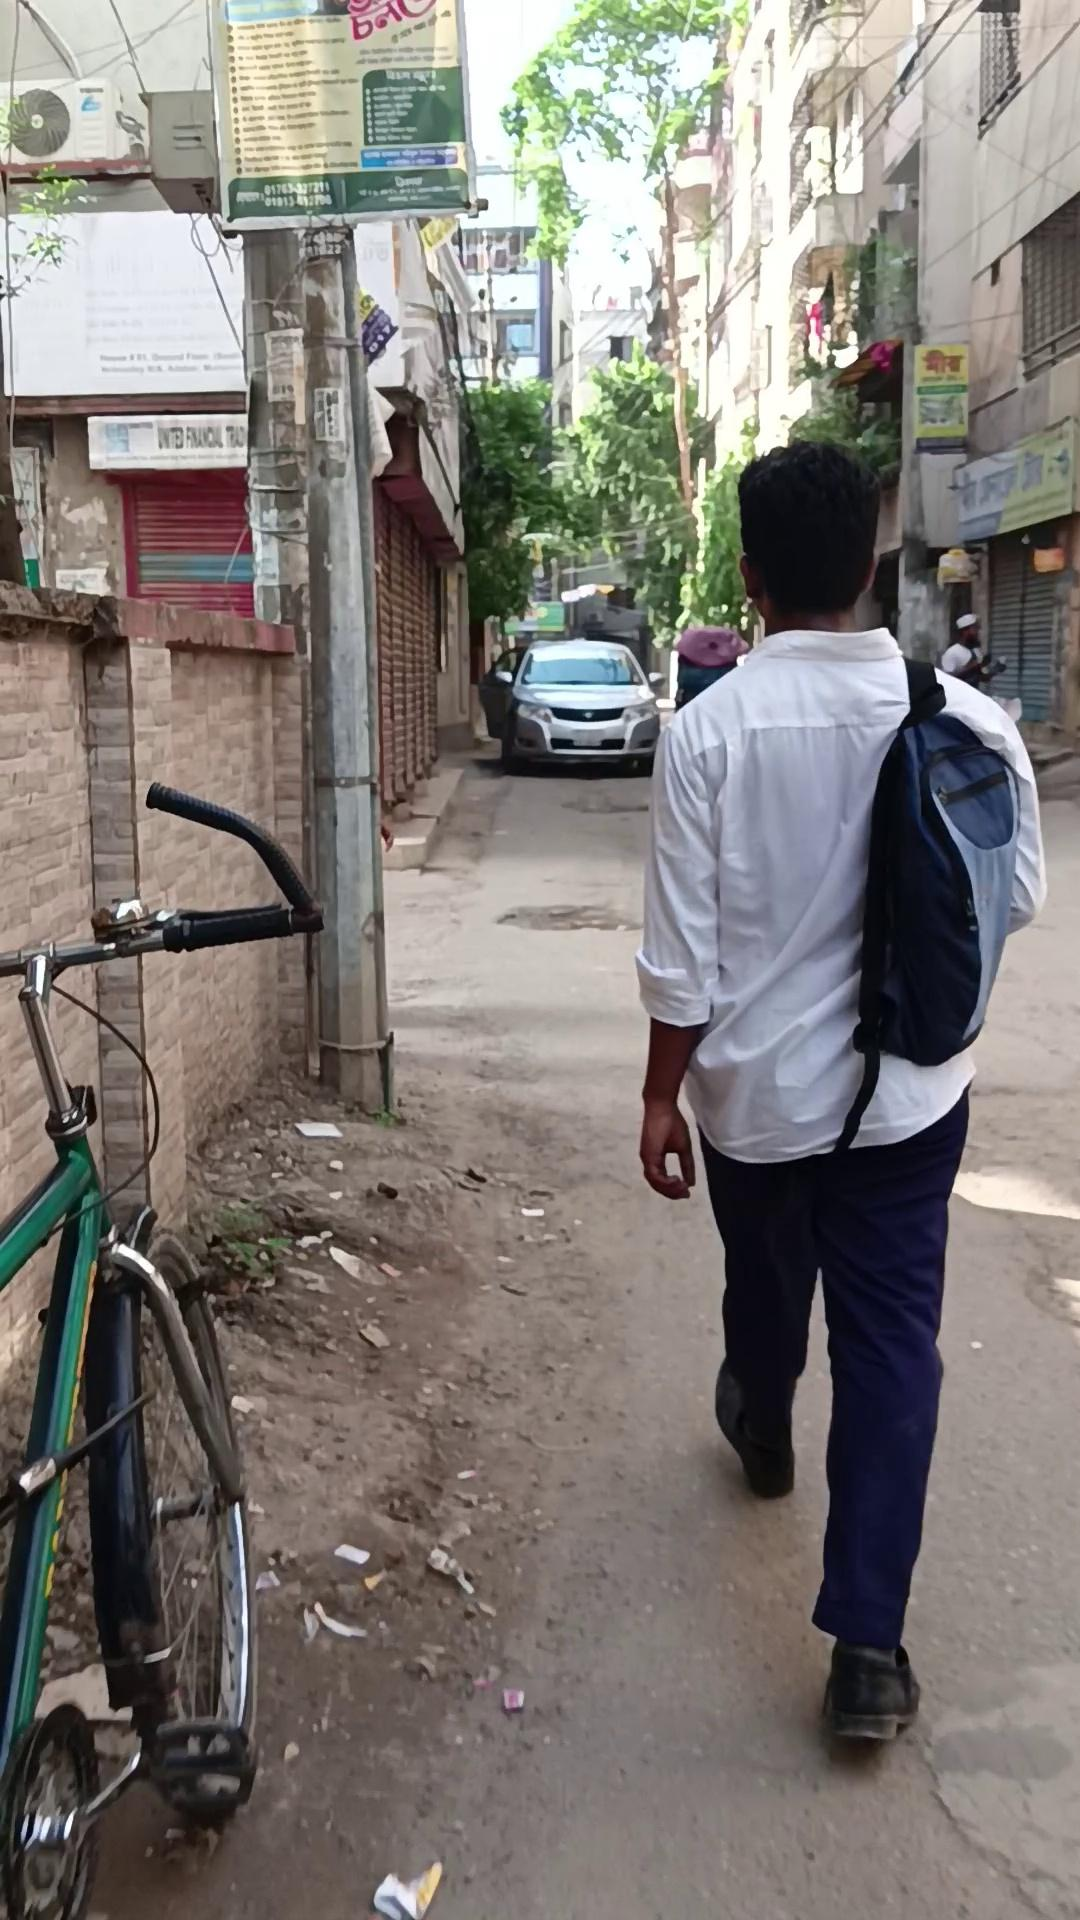Car: (477, 637, 662, 775)
Crosswalk: (380, 764, 465, 870)
Motorcycle: (1, 779, 324, 1916)
Muddy road: (634, 436, 1046, 1741), (938, 612, 1004, 691)
Obstacle: (299, 225, 394, 1114)
Potted-plant: (66, 727, 1077, 1916)
Stuck-water: (212, 1, 476, 229)
Tree: (1, 579, 318, 1254)
